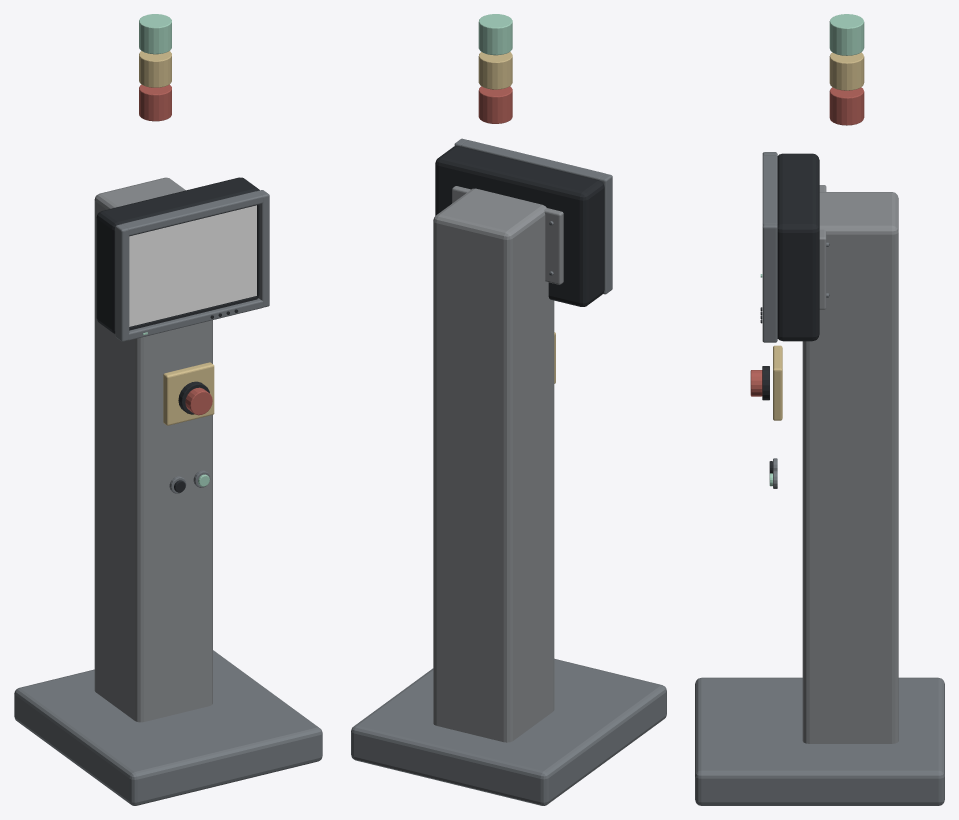
File: BX_TrialInterlock.fbx
3 views of the same model, side by side, from view 1: azimuth 30°, elevation 25°; view 2: azimuth 150°, elevation 25°; view 3: azimuth 270°, elevation 25° (orthographic). The views are drawn at different scales.
Visible parts, largest first — view 1: BX_TrialInterlock; view 2: BX_TrialInterlock; view 3: BX_TrialInterlock.
Boxes of the visible parts, left/top/right/bottom form: BX_TrialInterlock: left=14, top=14, right=322, bottom=805; BX_TrialInterlock: left=351, top=14, right=666, bottom=805; BX_TrialInterlock: left=695, top=14, right=944, bottom=805.
Bounding box in the file's own units: 60 × 212 × 65.
